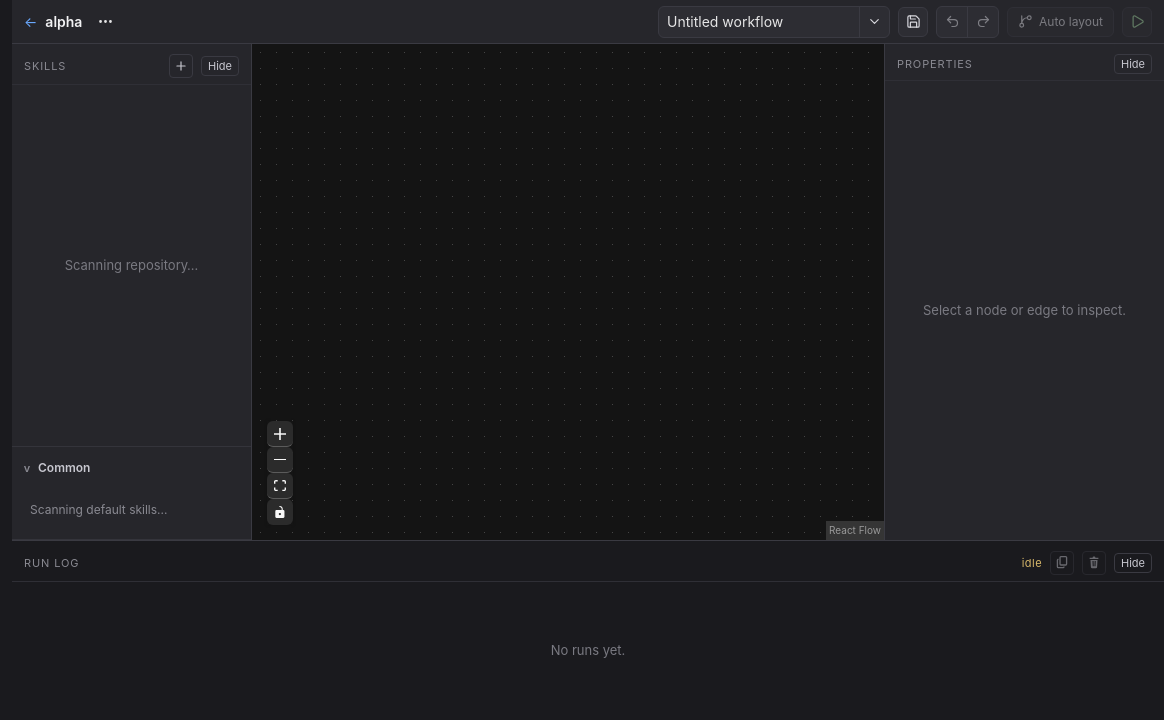
Test: Workspace › W1j: surfaces AGENTS.md open failures as an app error
Click the button with test id "workflow-settings".
click(105, 22)  # box top-left (90, 6), bottom-right (120, 36)
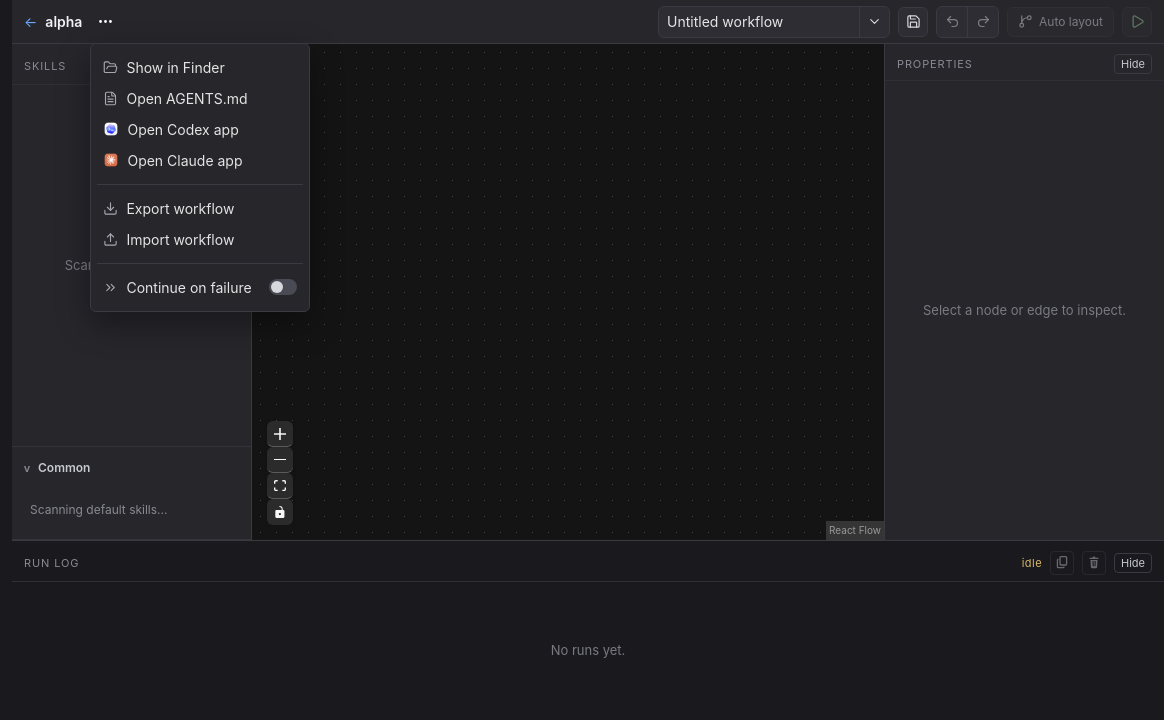
Click the menu item "Open AGENTS.md".
click(200, 98)  # box top-left (97, 82), bottom-right (303, 114)
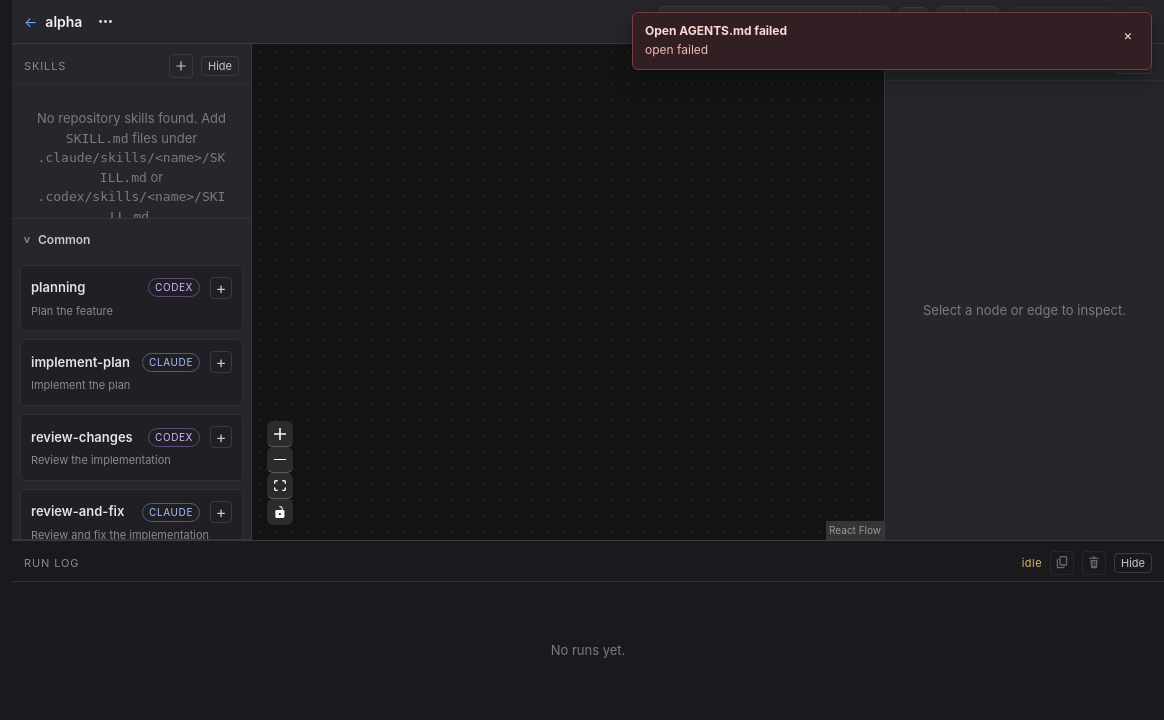
Result: the message with test id "app-error-alert" shows "Open AGENTS.md failed" at top-left (645, 23), bottom-right (787, 38)
Result: the message with test id "app-error-alert" shows "open failed" at top-left (645, 42), bottom-right (708, 57)
